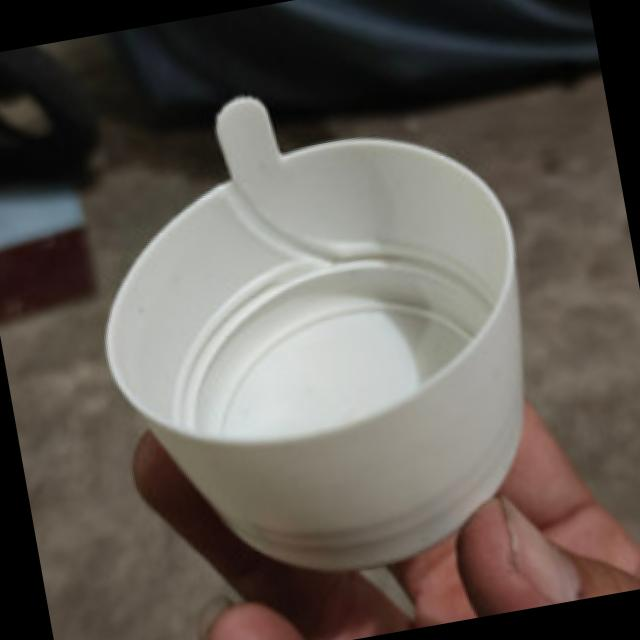TutupGalon: (64, 49, 571, 610)
